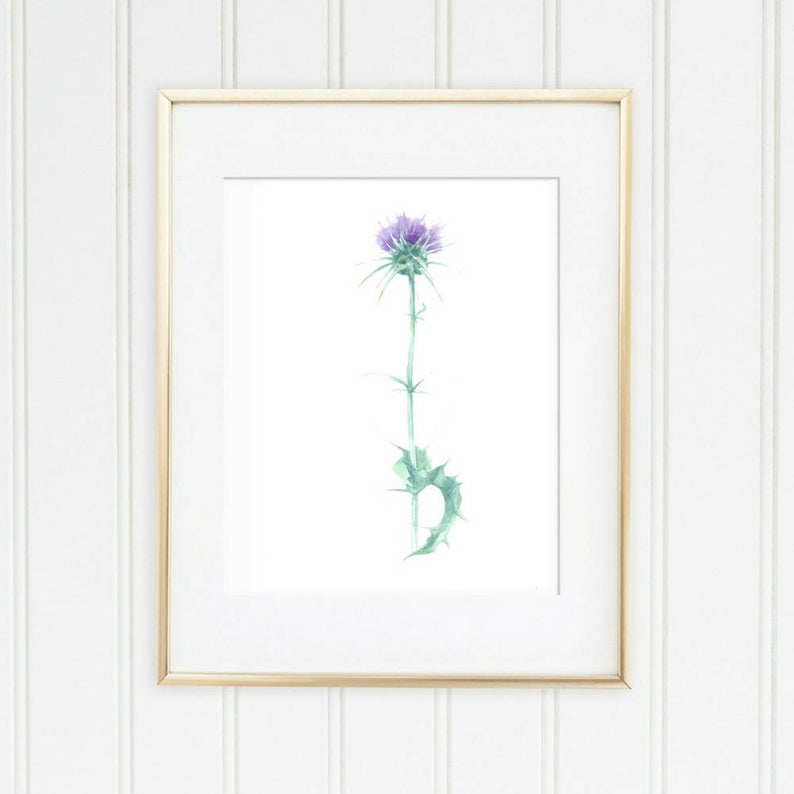thistle: (369, 212, 453, 294)
